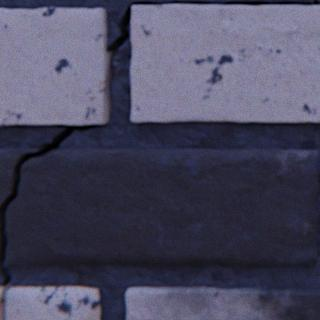brick: (131, 4, 319, 121), (0, 7, 108, 125), (126, 285, 319, 319)
broken_brick: (5, 148, 318, 266), (0, 147, 41, 262), (7, 285, 101, 319), (0, 286, 5, 319)
crack: (1, 0, 318, 319)
